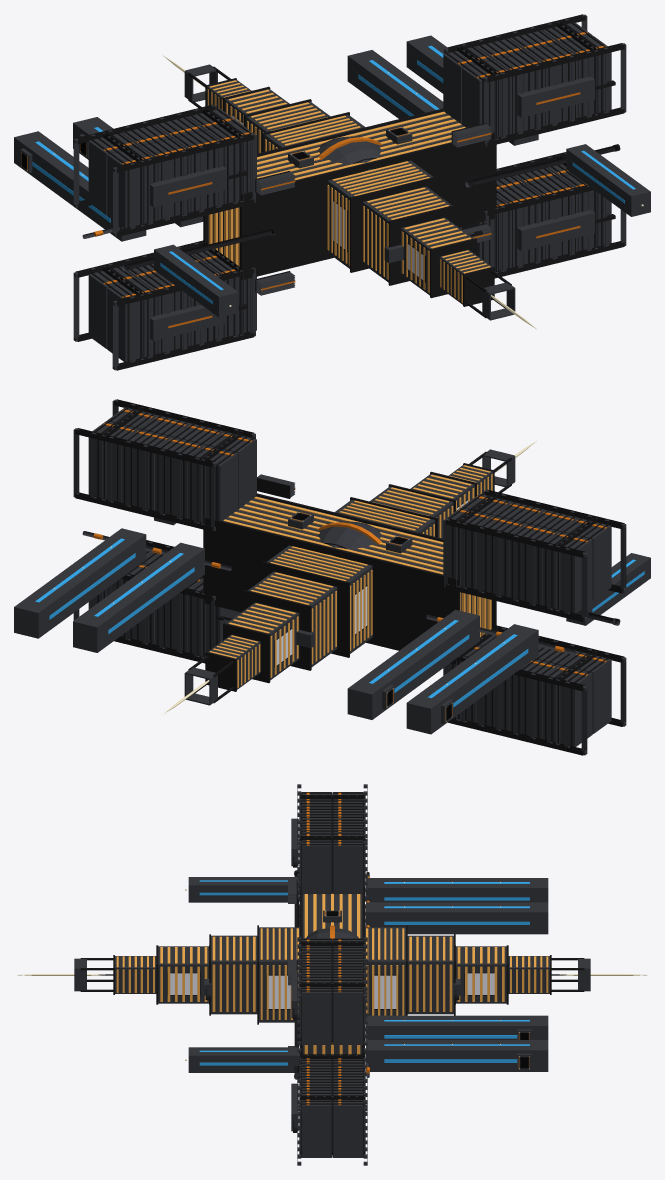
Rendered from station3_industrie.obj.
3 views of the same model, one above another, from view 1: azimuth 30°, elevation 25°; view 2: azimuth 150°, elevation 25°; view 3: azimuth 270°, elevation 25° (orthographic). The views are drawn at different scales.
Visible parts, largest first — view 1: hull, hull2, window, accent, cyan, ad; view 2: hull, hull2, window, cyan, accent, ad; view 3: hull, hull2, window, cyan, ad, accent.
Boxes of the visible parts, x1,y1,x2,y2 form: hull: [14, 14, 650, 370]; hull2: [75, 14, 624, 370]; window: [207, 80, 490, 303]; accent: [21, 31, 606, 328]; cyan: [32, 45, 635, 303]; ad: [232, 115, 423, 279]; hull: [14, 399, 650, 755]; hull2: [75, 399, 624, 755]; window: [209, 465, 492, 688]; cyan: [35, 538, 644, 707]; accent: [93, 409, 606, 721]; ad: [276, 500, 467, 665]; hull: [74, 784, 590, 1165]; hull2: [80, 785, 584, 1157]; window: [116, 894, 548, 1054]; cyan: [199, 880, 529, 1065]; ad: [170, 973, 494, 1008]; accent: [204, 792, 529, 1105].
Bounding box in the file's own units: 208 × 78.75 × 266.
